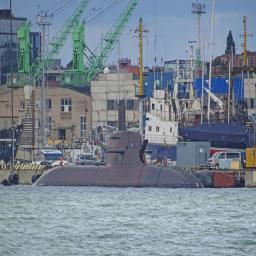submarine: (23, 100, 206, 189)
